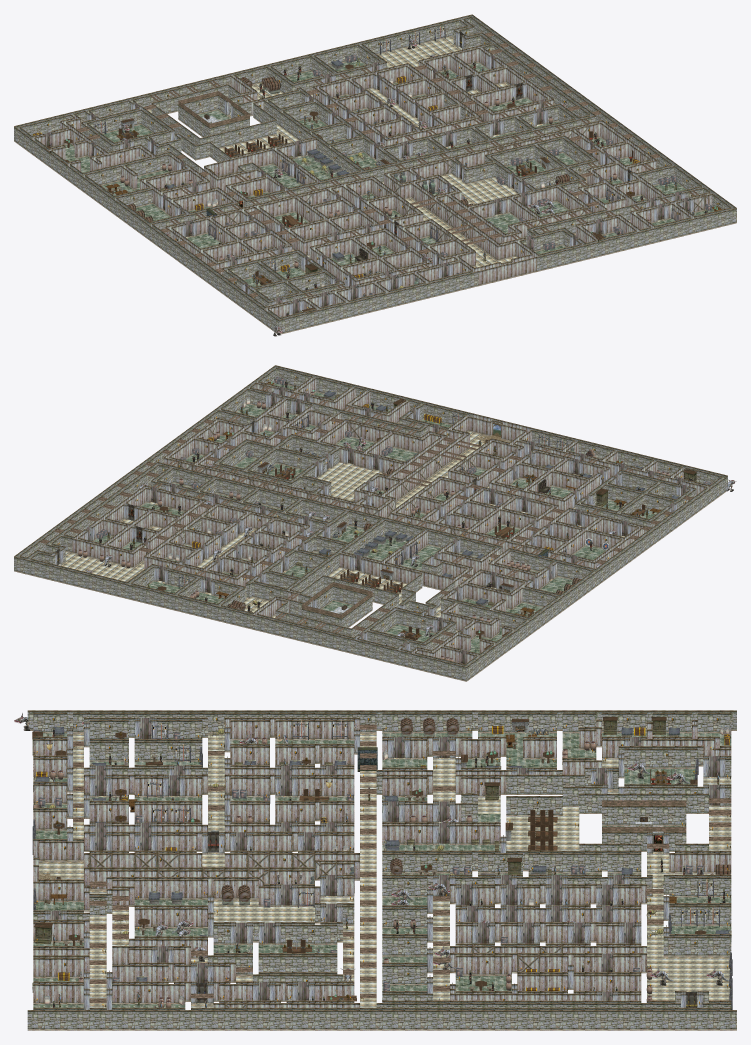
The model's file is map.gltf.
3 renders of one model, top to bottom at view 1: azimuth 30°, elevation 25°; view 2: azimuth 150°, elevation 25°; view 3: azimuth 270°, elevation 25°, orthographic. The views are drawn at different scales.
Bounding box in the file's own units: 128 × 5.39 × 128.
Materials: 53 (53 with a texture image).
